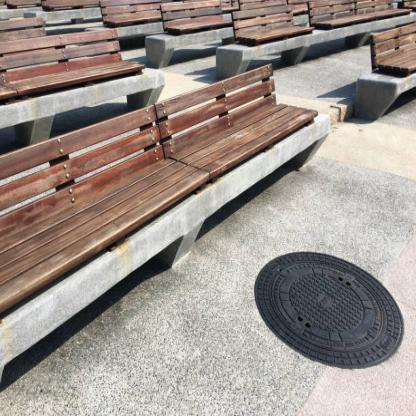manholes: (248, 246, 403, 393)
